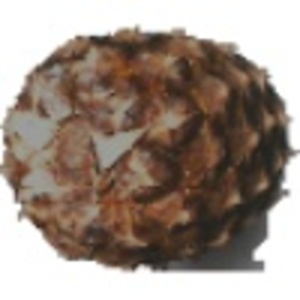abacaxi: (9, 15, 293, 265)
